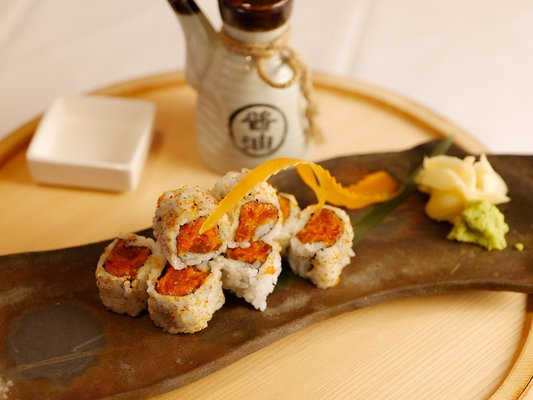curry: (1, 4, 530, 400)
